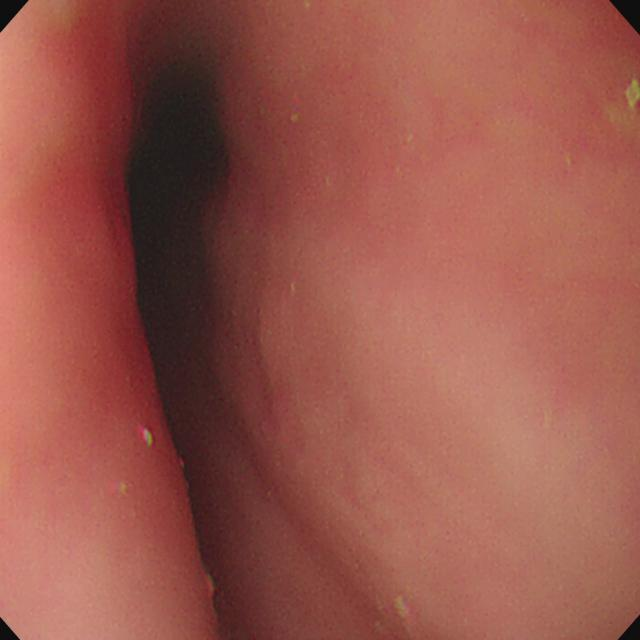E: (126, 83, 221, 268)
